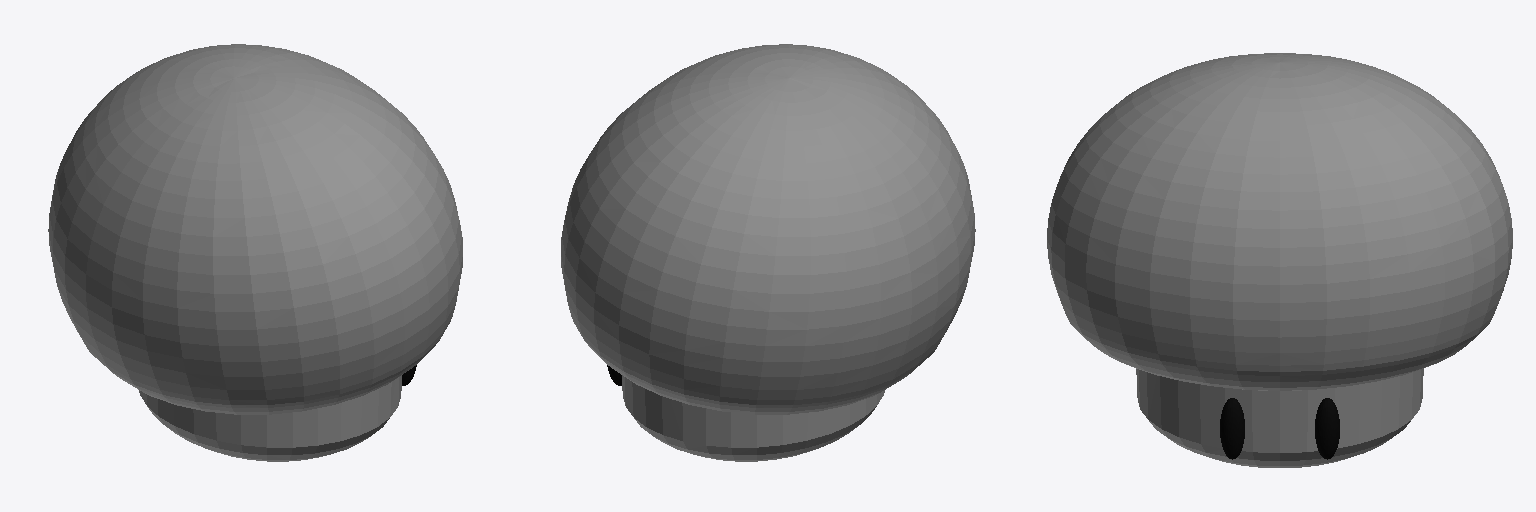
The model's file is mushroom.obj.
The picture shows the model from 3 angles: view 1: azimuth 30°, elevation 25°; view 2: azimuth 150°, elevation 25°; view 3: azimuth 270°, elevation 25°; orthographic projection.
Parts seen in each view (by area): view 1: Object002; view 2: Object002; view 3: Object002.
Part boxes in pixels (x1,y1,x2,y2): Object002: (48,44,462,461); Object002: (561,44,975,461); Object002: (1047,53,1512,467).
Size of the model in its own units: 0.5984 by 0.6184 by 0.7096.